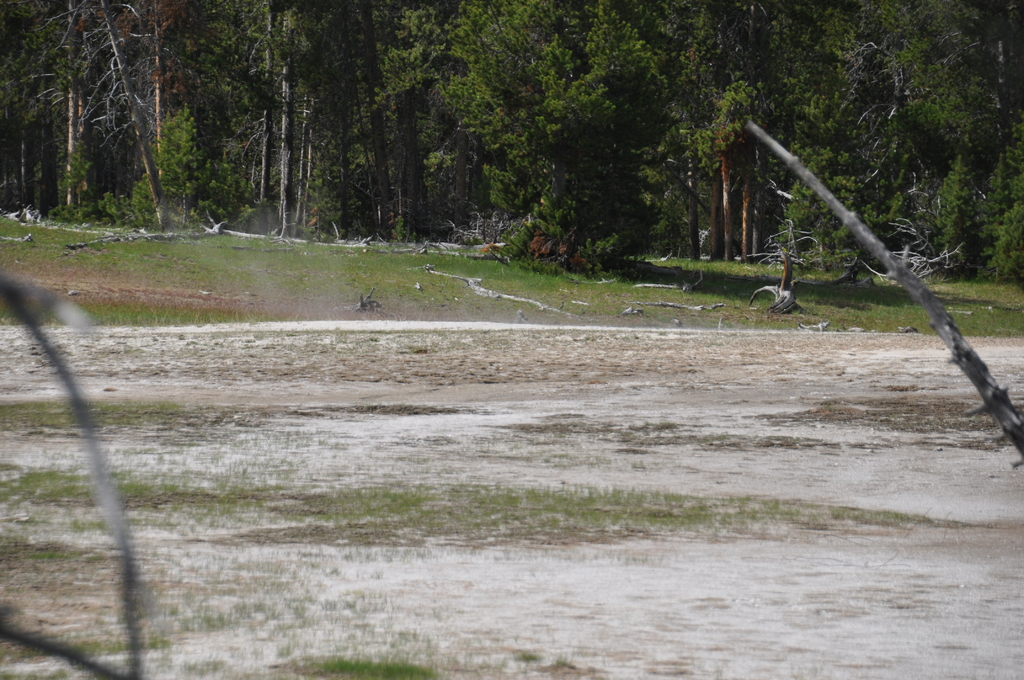Tree: (412, 0, 755, 275), (193, 0, 447, 235), (839, 0, 1023, 272), (659, 0, 817, 263), (64, 0, 179, 226), (0, 0, 111, 211), (120, 0, 193, 192)
